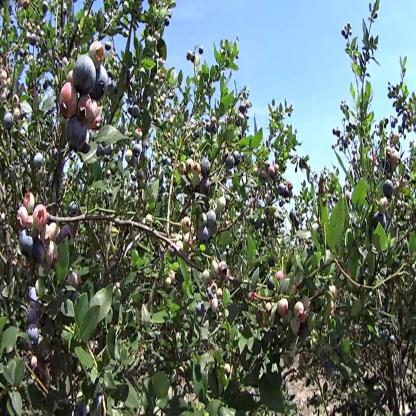intermediate: (79, 95, 103, 129), (61, 85, 78, 118), (35, 205, 47, 230), (277, 297, 291, 318), (91, 43, 104, 65), (46, 241, 57, 266), (24, 194, 37, 213), (295, 302, 306, 321), (19, 208, 29, 227)
mature: (73, 56, 97, 93), (97, 66, 109, 101), (21, 231, 34, 255), (35, 240, 46, 266), (5, 110, 16, 132), (28, 325, 41, 343), (30, 304, 41, 324), (199, 229, 211, 246), (384, 179, 394, 199), (202, 155, 211, 175), (375, 215, 388, 227), (234, 147, 242, 166), (34, 153, 44, 168), (70, 201, 79, 215), (222, 263, 229, 281), (227, 155, 236, 167), (269, 277, 275, 291)
young: (211, 257, 221, 283), (164, 269, 177, 287), (379, 195, 391, 214), (178, 237, 194, 250), (183, 217, 194, 233), (202, 267, 211, 285), (186, 158, 194, 174), (179, 161, 186, 179)
